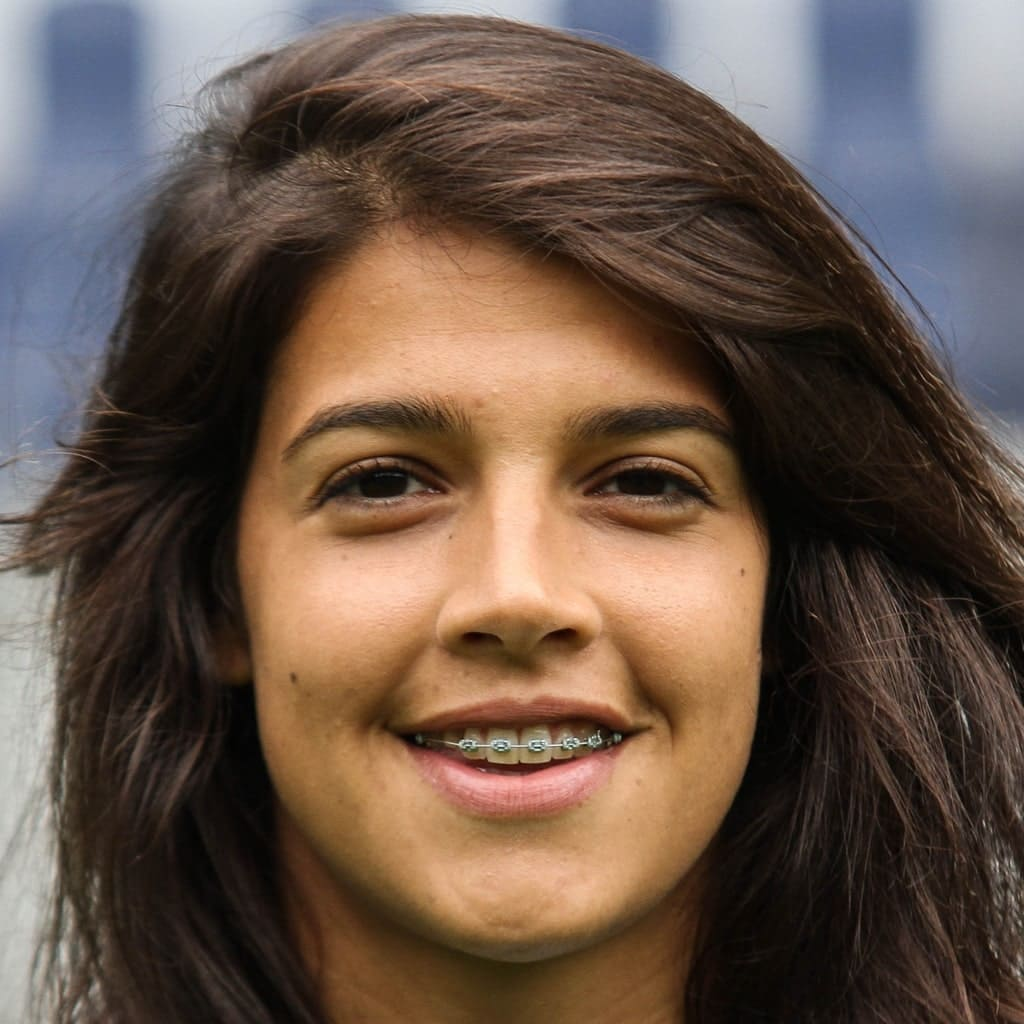without_mask: (251, 355, 764, 864)
